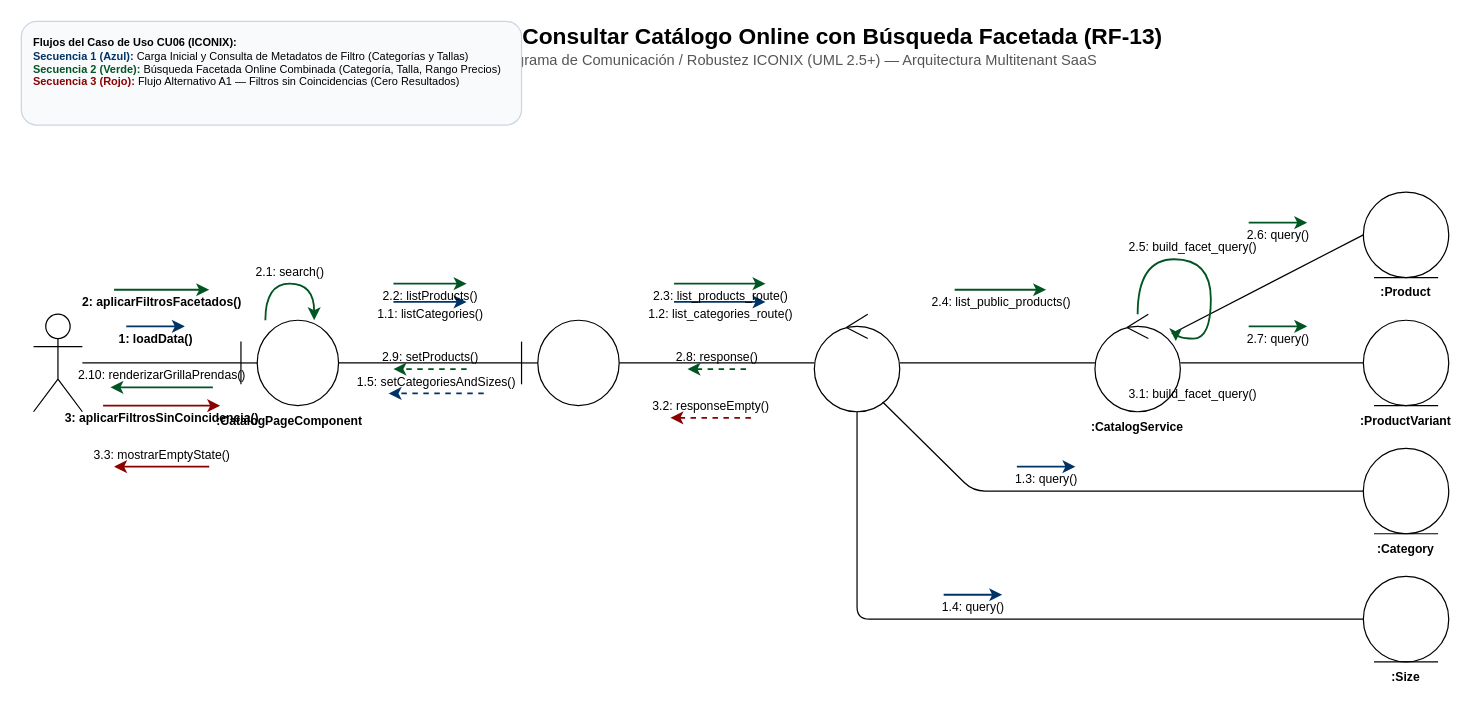
This 1473x706 diagram has some shape labels left out. The centre of each missing label's shape, as x and y in pixels:
":CatalogApiService" goes at point (569, 362).
":CatalogRoutes" goes at point (856, 362).
":Cliente" goes at point (57, 362).
